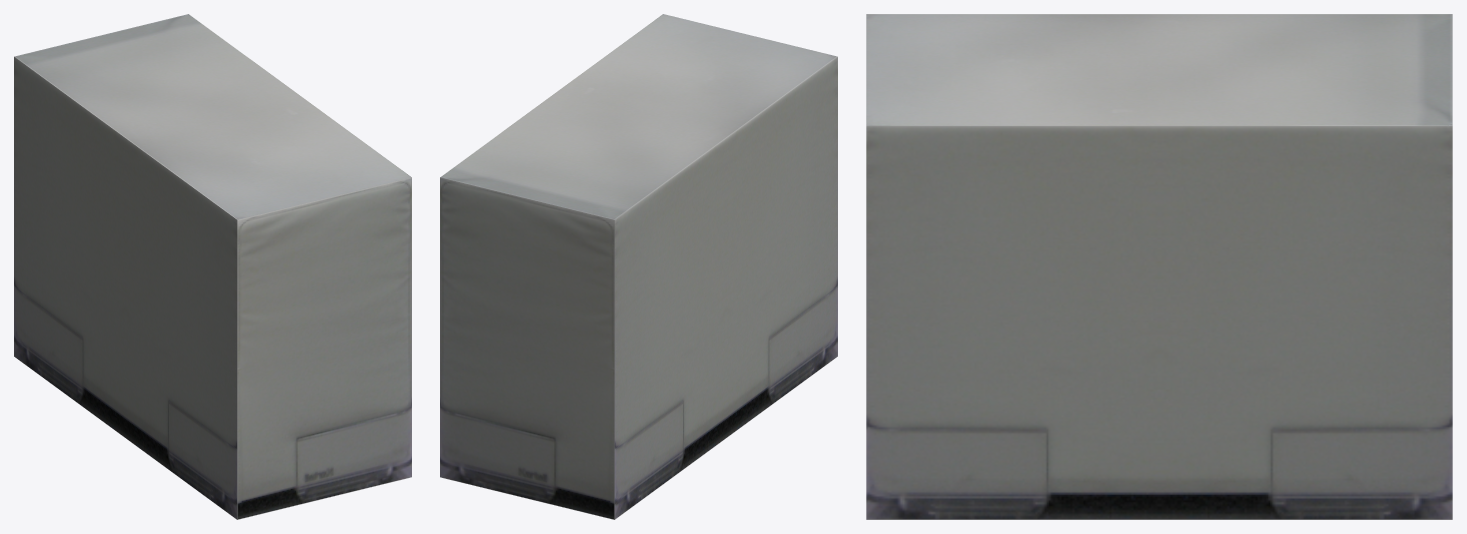
The model's file is couch_right_side.dae.
3 views of the same model, side by side, from view 1: azimuth 30°, elevation 25°; view 2: azimuth 150°, elevation 25°; view 3: azimuth 270°, elevation 25° (orthographic). The views are drawn at different scales.
Parts seen in each view (by area): view 1: Cube; view 2: Cube; view 3: Cube.
Boxes of the visible parts, x1,y1,x2,y2 form: Cube: [14, 14, 411, 519]; Cube: [440, 14, 837, 519]; Cube: [866, 14, 1452, 519].
Size of the model in its own units: 0.28 by 0.62 by 0.46.
Materials: 1 (1 with a texture image).
